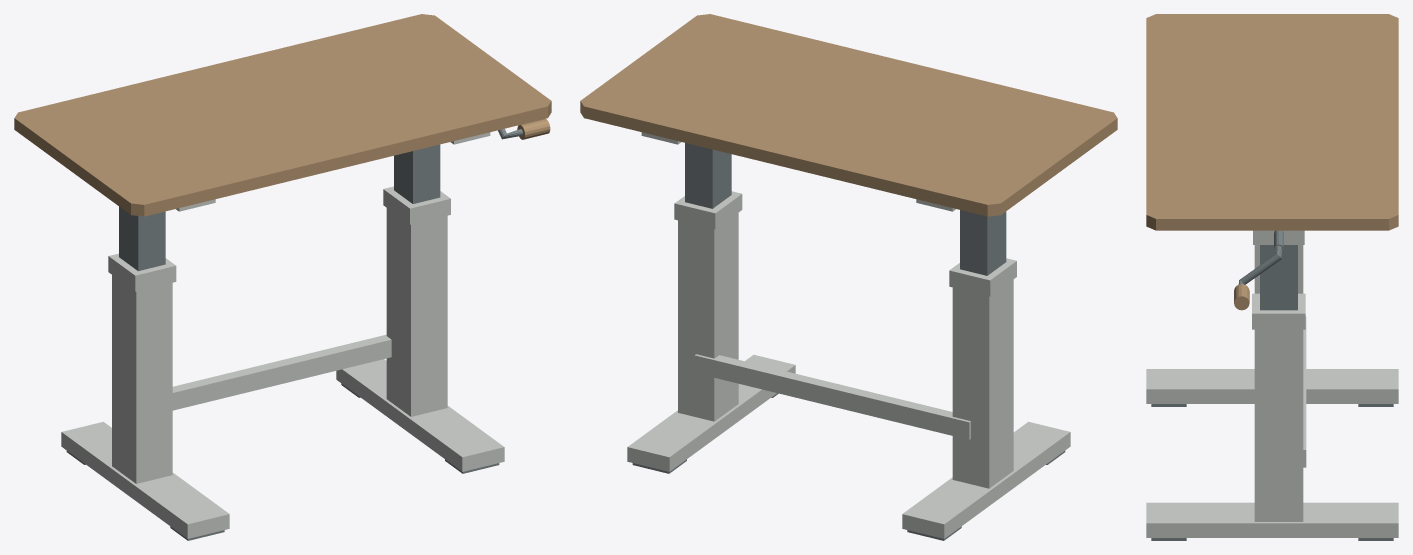
The picture shows the model from 3 angles, left to right: view 1: azimuth 30°, elevation 25°; view 2: azimuth 150°, elevation 25°; view 3: azimuth 270°, elevation 25°; orthographic projection.
Parts seen in each view (by area): view 1: WholeLevelWritingTop, WholeOpenUpperOuterColumn_1, WholeOpenUpperOuterColumn_-1, WholeLongTGroundFoot_-1, WholeLongTGroundFoot_1, WholeLowerRearCrossTie, WholeExtendedInnerColumn_-1, WholeExtendedInnerColumn_1, WholeTopGuideCollar_-1, WholeTopGuideCollar_1; view 2: WholeLevelWritingTop, WholeOpenUpperOuterColumn_-1, WholeOpenUpperOuterColumn_1, WholeLowerRearCrossTie, WholeLongTGroundFoot_-1, WholeLongTGroundFoot_1, WholeExtendedInnerColumn_-1, WholeExtendedInnerColumn_1, WholeTopGuideCollar_1, WholeTopGuideCollar_-1; view 3: WholeLevelWritingTop, WholeOpenUpperOuterColumn_1, WholeLongTGroundFoot_1, WholeLongTGroundFoot_-1, WholeExtendedInnerColumn_1, WholeTopGuideCollar_1, WholeUpperGearHousing_1, WholeLowerRearCrossTie, WholeOpenUpperOuterColumn_-1, WholeBentSideCrank, WholeCrankOuterGrip.
Part boxes in pixels (left/top/right/bottom): WholeLevelWritingTop: left=14, top=14, right=551, bottom=216; WholeOpenUpperOuterColumn_1: left=386, top=208, right=447, bottom=416; WholeOpenUpperOuterColumn_-1: left=112, top=275, right=172, bottom=483; WholeLongTGroundFoot_-1: left=61, top=421, right=229, bottom=538; WholeLongTGroundFoot_1: left=336, top=359, right=504, bottom=471; WholeLowerRearCrossTie: left=172, top=334, right=391, bottom=410; WholeExtendedInnerColumn_-1: left=119, top=206, right=165, bottom=271; WholeExtendedInnerColumn_1: left=394, top=144, right=440, bottom=203; WholeTopGuideCollar_-1: left=108, top=253, right=176, bottom=291; WholeTopGuideCollar_1: left=383, top=186, right=450, bottom=224; WholeLevelWritingTop: left=580, top=14, right=1117, bottom=216; WholeOpenUpperOuterColumn_-1: left=952, top=279, right=1013, bottom=488; WholeOpenUpperOuterColumn_1: left=678, top=213, right=738, bottom=421; WholeLowerRearCrossTie: left=694, top=354, right=970, bottom=439; WholeLongTGroundFoot_-1: left=902, top=421, right=1070, bottom=538; WholeLongTGroundFoot_1: left=627, top=355, right=795, bottom=471; WholeExtendedInnerColumn_-1: left=960, top=210, right=1006, bottom=275; WholeExtendedInnerColumn_1: left=685, top=143, right=731, bottom=208; WholeTopGuideCollar_1: left=674, top=191, right=742, bottom=229; WholeTopGuideCollar_-1: left=949, top=258, right=1016, bottom=296; WholeLevelWritingTop: left=1146, top=14, right=1398, bottom=230; WholeOpenUpperOuterColumn_1: left=1254, top=329, right=1303, bottom=521; WholeLongTGroundFoot_1: left=1146, top=502, right=1398, bottom=537; WholeLongTGroundFoot_-1: left=1146, top=369, right=1398, bottom=403; WholeExtendedInnerColumn_1: left=1260, top=245, right=1297, bottom=310; WholeTopGuideCollar_1: left=1252, top=293, right=1305, bottom=329; WholeUpperGearHousing_1: left=1253, top=230, right=1304, bottom=244; WholeLowerRearCrossTie: left=1303, top=316, right=1306, bottom=467; WholeOpenUpperOuterColumn_-1: left=1254, top=245, right=1303, bottom=293; WholeBentSideCrank: left=1238, top=245, right=1282, bottom=284; WholeCrankOuterGrip: left=1234, top=284, right=1249, bottom=310.
Bounding box in the file's own units: 1.63 × 1.19 × 0.78.
